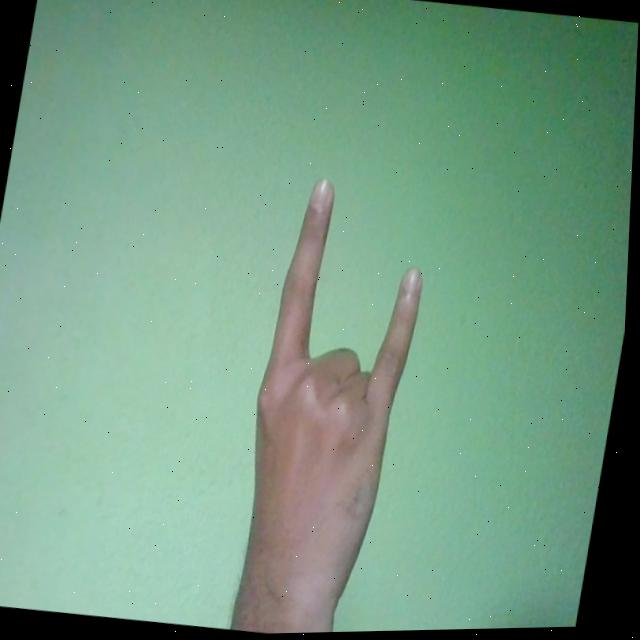Rock On: (225, 176, 442, 635)
